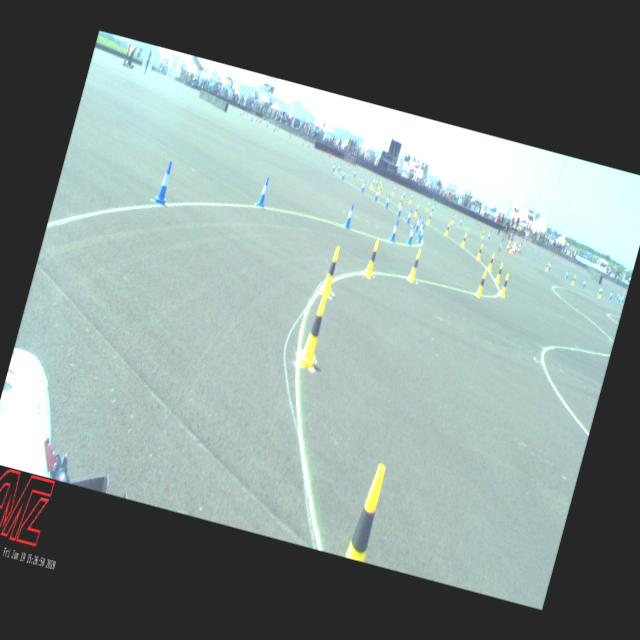blue_cone: (154, 160, 176, 204), (256, 176, 270, 207), (343, 202, 355, 228), (388, 219, 399, 242), (406, 223, 416, 245), (416, 224, 426, 242), (417, 220, 424, 237), (414, 216, 421, 232), (406, 208, 412, 224), (384, 195, 390, 207), (397, 203, 402, 216), (360, 180, 365, 192), (374, 189, 378, 200), (341, 169, 345, 179), (332, 162, 336, 172), (582, 278, 586, 287), (547, 261, 551, 270), (514, 244, 518, 253), (608, 290, 612, 298), (564, 270, 568, 278), (617, 294, 621, 302), (337, 164, 341, 172), (616, 292, 620, 300), (486, 231, 490, 239), (458, 217, 462, 225), (597, 286, 601, 294), (431, 204, 434, 212), (353, 168, 356, 176), (620, 295, 623, 303), (402, 190, 405, 198), (375, 178, 378, 185)
large_orange_cone: (516, 242, 521, 254), (512, 240, 516, 253), (506, 238, 510, 250), (512, 238, 516, 250)
yellow_cone: (344, 461, 390, 562), (296, 291, 333, 370), (318, 244, 343, 296), (363, 238, 381, 278), (407, 248, 422, 282), (474, 270, 488, 297), (498, 272, 509, 296), (494, 262, 504, 282), (486, 252, 494, 270), (476, 243, 484, 260), (444, 222, 450, 235), (426, 212, 432, 225), (461, 232, 466, 247), (413, 204, 418, 216), (398, 196, 403, 207), (570, 275, 576, 284), (370, 178, 374, 188), (426, 202, 430, 212), (408, 194, 412, 203), (392, 187, 396, 196), (598, 288, 602, 297), (450, 215, 454, 224), (480, 230, 484, 238), (544, 262, 548, 270), (508, 244, 512, 252), (378, 184, 381, 193), (378, 181, 381, 190)
